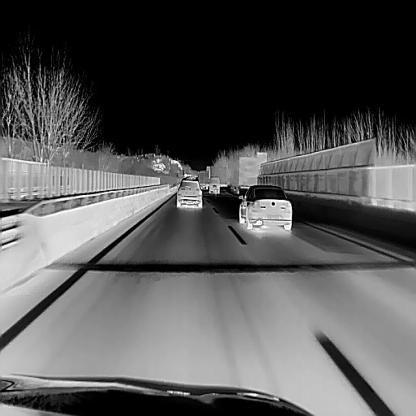car: (237, 184, 291, 228), (176, 177, 202, 208), (197, 169, 210, 189), (208, 175, 219, 193)
